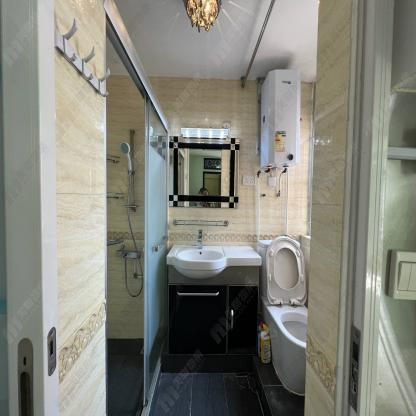Toilet: (257, 235, 308, 395)
Toilet Sink: (166, 244, 231, 279)
Water Cubicle: (103, 0, 170, 416)
Water Heater: (260, 69, 301, 169)
